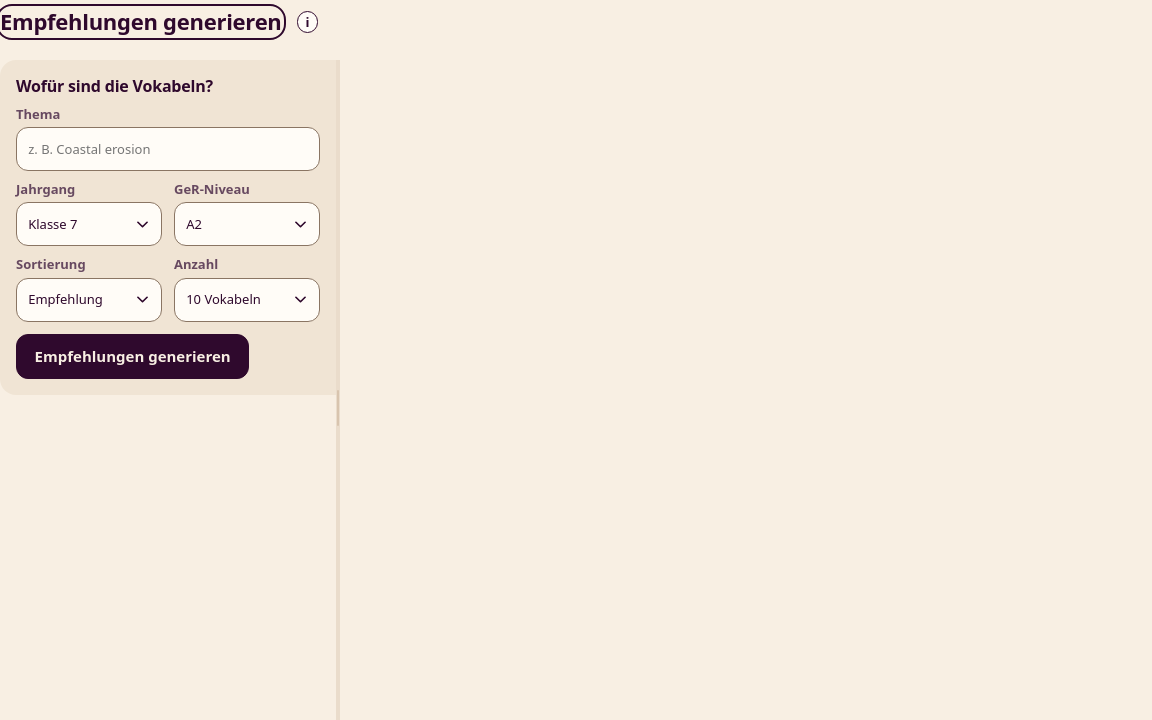
Wörterbuchvorschläge im Empfehlungsschritt › erscheinen ohne Zutun, auch ohne Sprachmodell
Check: the button "Empfehlungen generieren" is enabled, box [16,334,249,379]
Select "20 Vokabeln" in the dropdown labelled "Anzahl" at {"x": 247, "y": 300}, box [174,278,320,322]
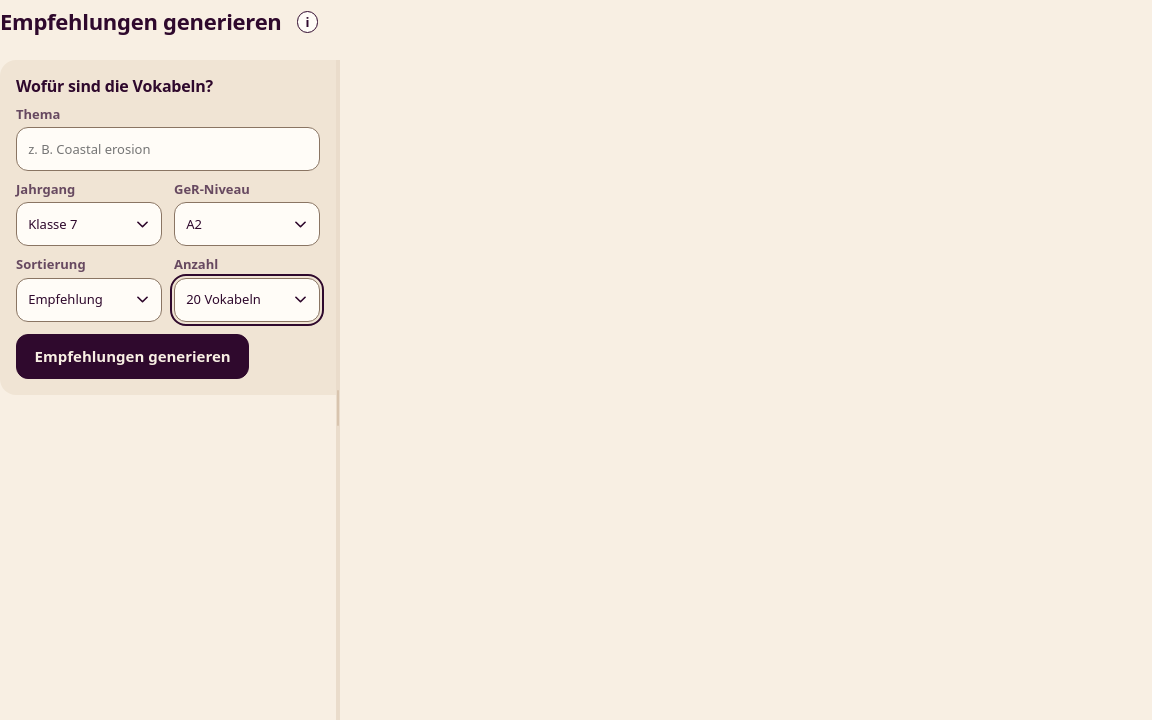
Click the button "Empfehlungen generieren" at {"x": 133, "y": 356}, box [16,334,249,379]
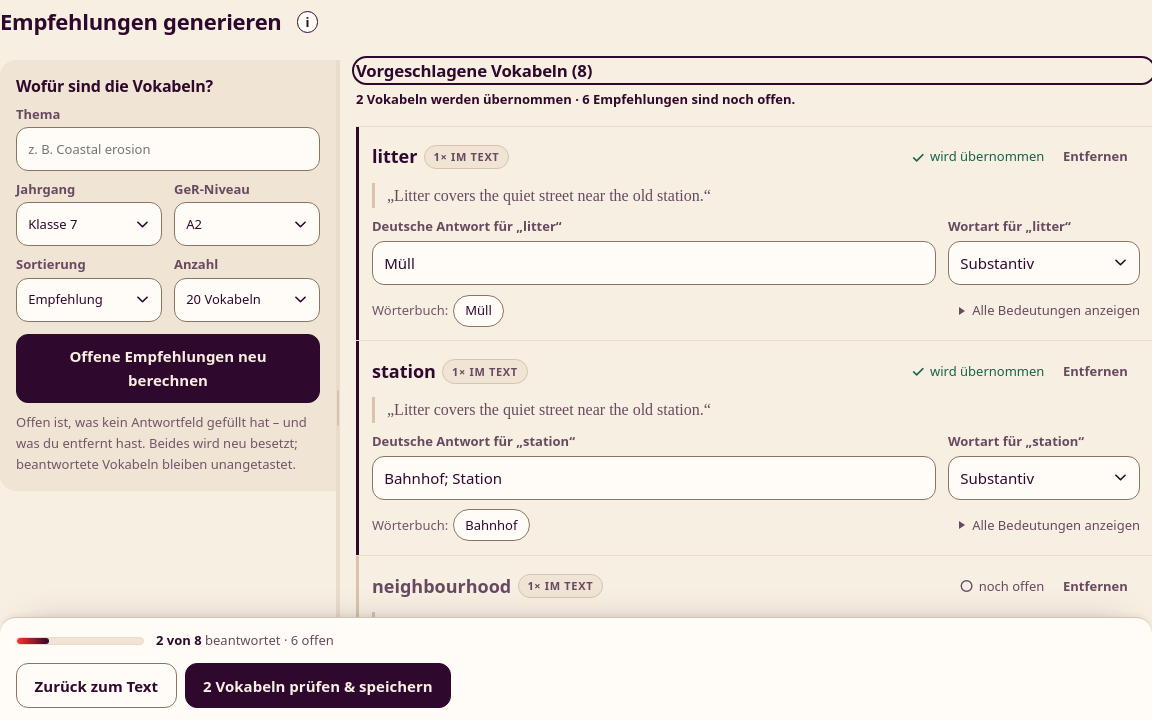
Check: the button with aria-label "„Müll“ als Antwort für litter einsetzen" is shown, box [453,295,504,327]
Check: the 1st text "Wörterbuch:" is shown, box [372,300,448,321]
